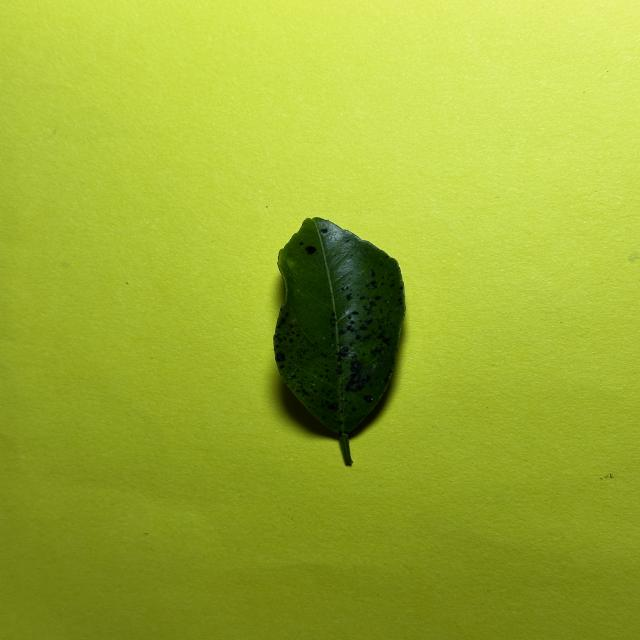sooty_mold: (274, 218, 405, 464)
